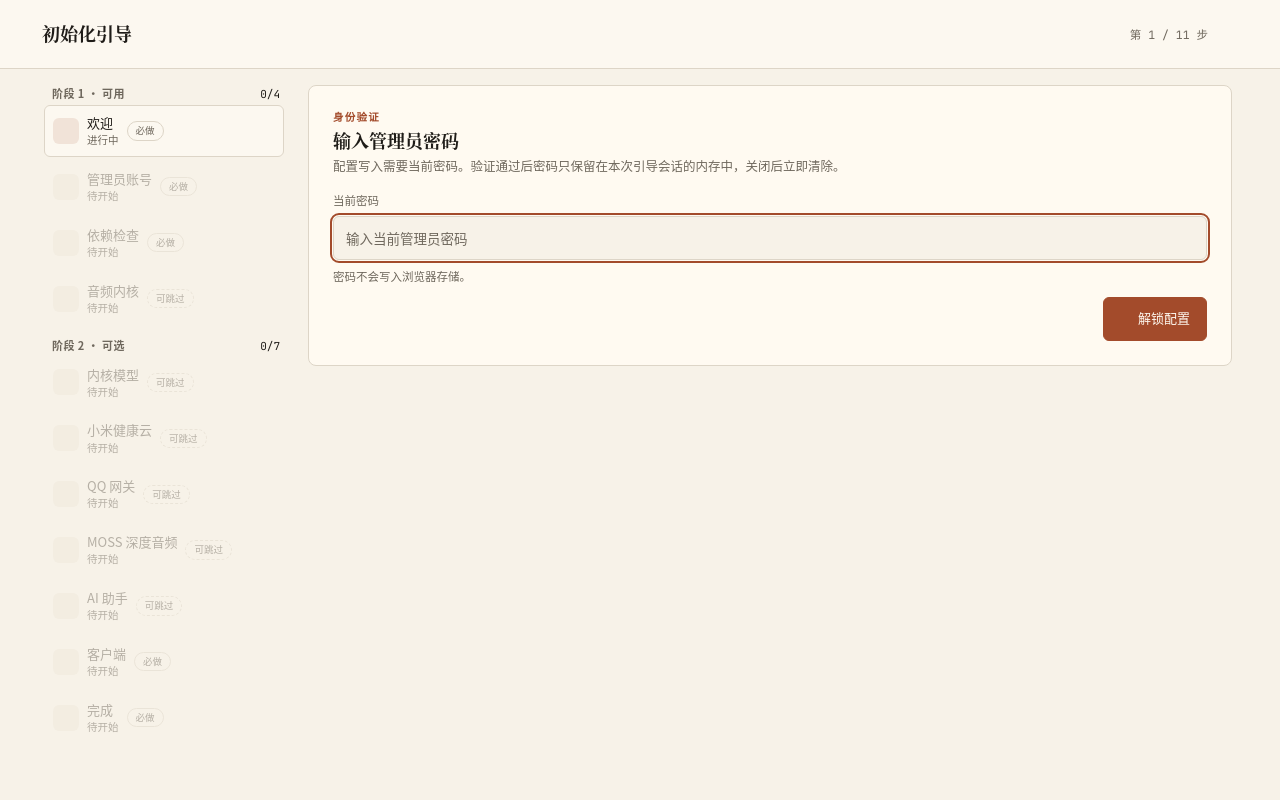
Test: OnboardingWizard v4 › shows a wrong-password error and stays behind the gate
Type "bad" into the password field labelled "当前密码" at (770, 238), box top-left (333, 216), bottom-right (1207, 260)
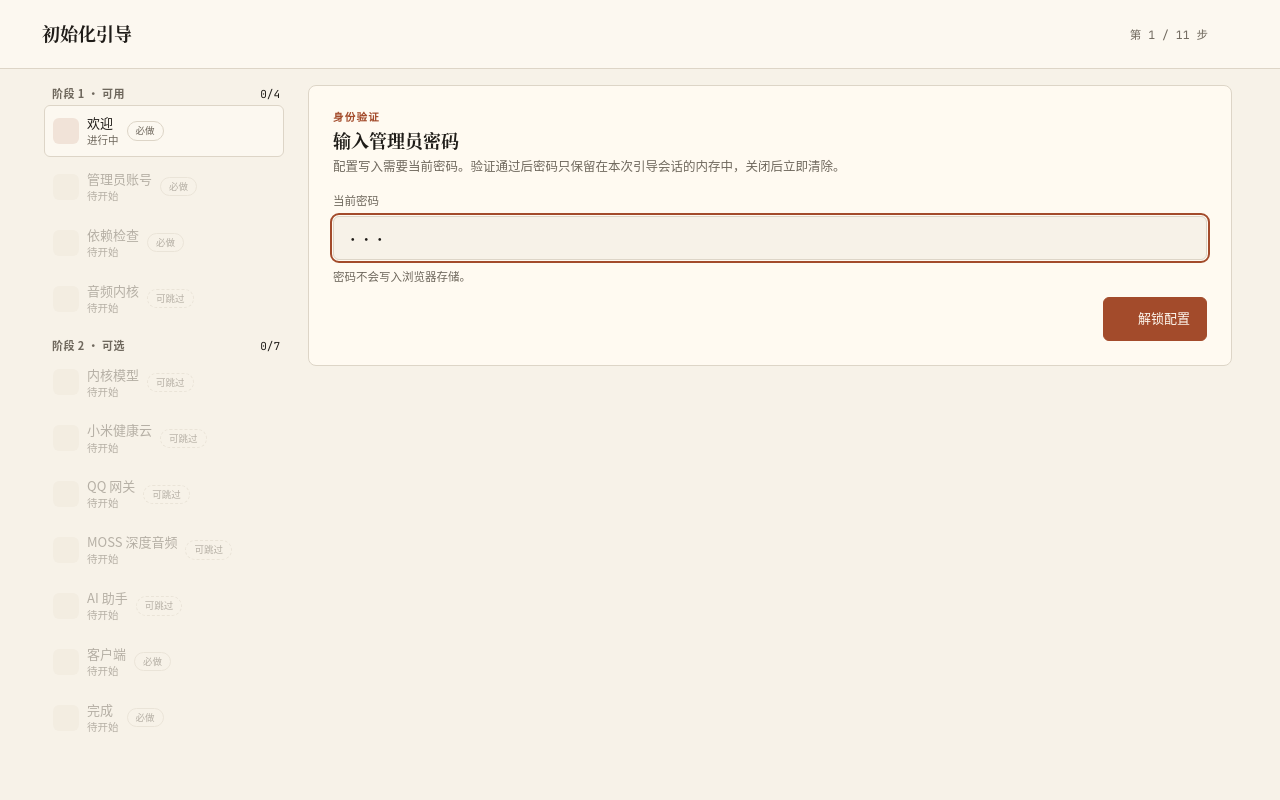
Submit the form from the button "解锁配置", box top-left (1103, 297), bottom-right (1207, 341)
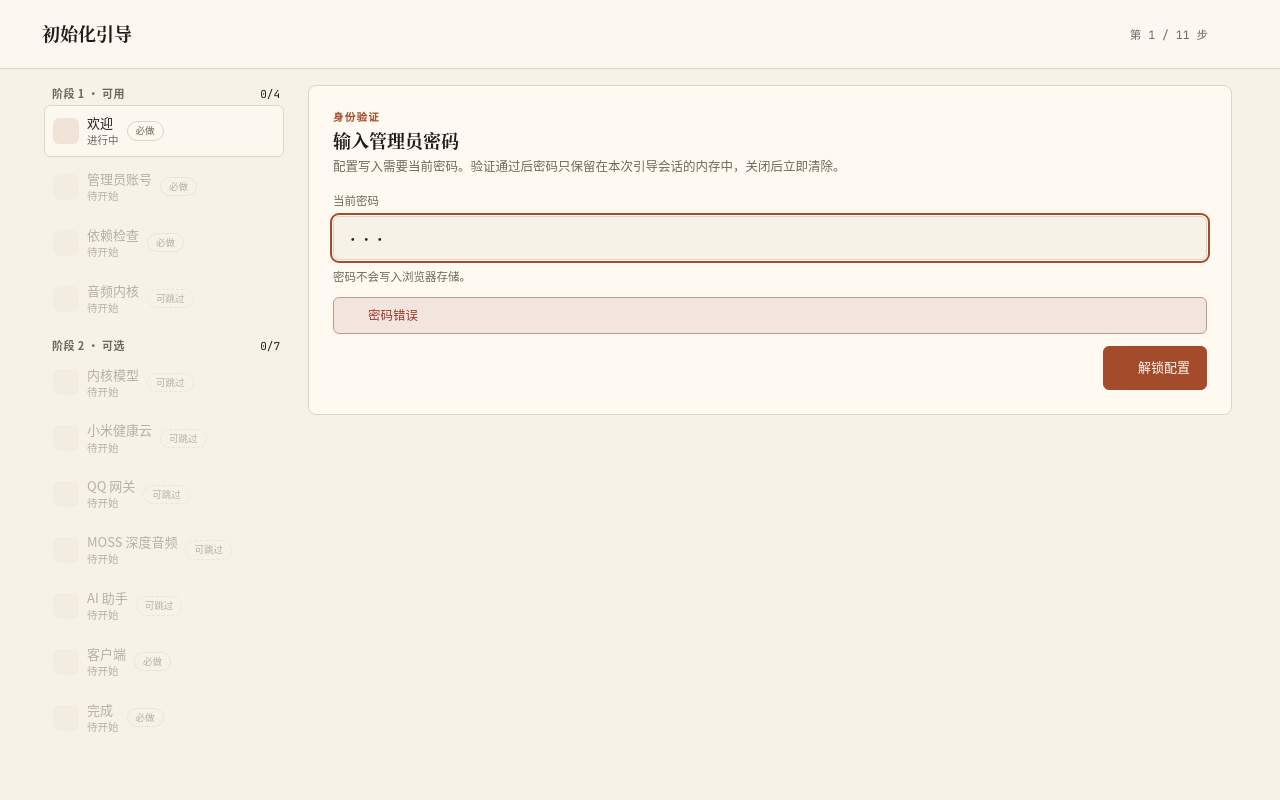
Expected: the element that starts with "身份验证" is shown, top-left (308, 85), bottom-right (1232, 415)
Expected: the message "密码错误" is shown, top-left (333, 297), bottom-right (1207, 334)
